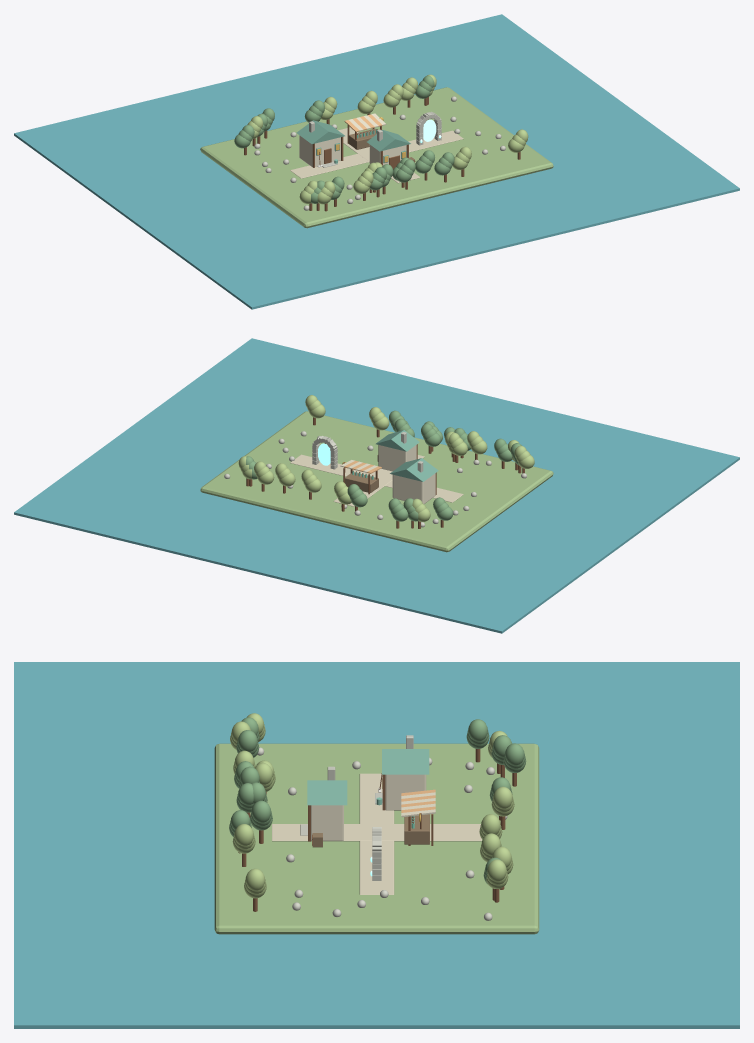
The model's file is Town.fbx.
The picture shows the model from 3 angles, top to bottom: view 1: azimuth 30°, elevation 25°; view 2: azimuth 150°, elevation 25°; view 3: azimuth 270°, elevation 25°; orthographic projection. The views are drawn at different scales.
Visible parts, largest first — view 1: Town; view 2: Town; view 3: Town.
Boxes of the visible parts, <box> form: Town: <box>14,14,739,309</box>; Town: <box>14,338,739,633</box>; Town: <box>14,662,739,1028</box>.
Bounding box in the file's own units: 45 × 4.07 × 38.
